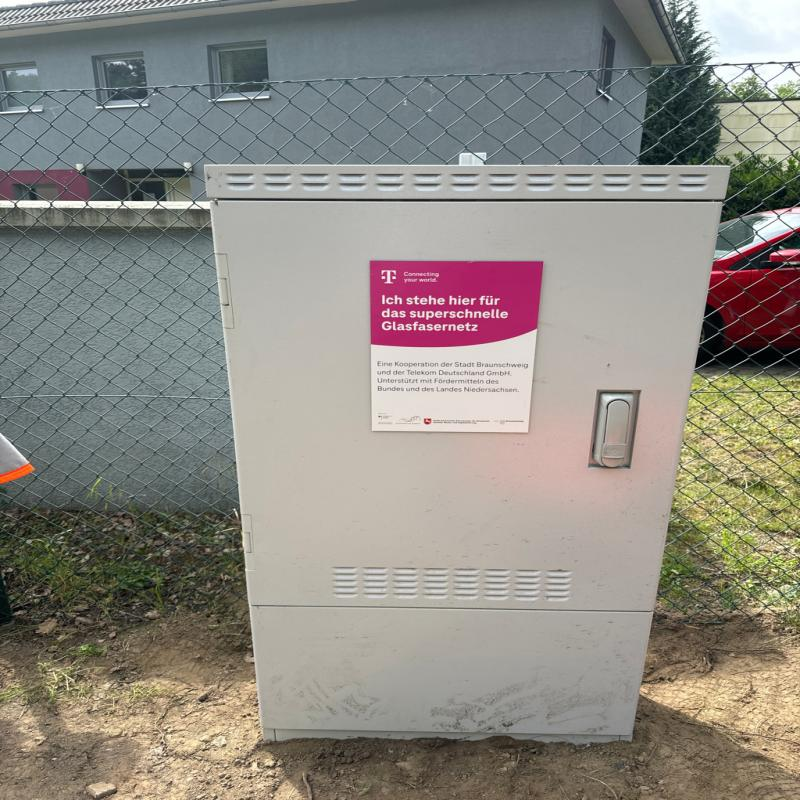NT-Gehause: (206, 163, 730, 755)
Steaker: (370, 258, 537, 434)
